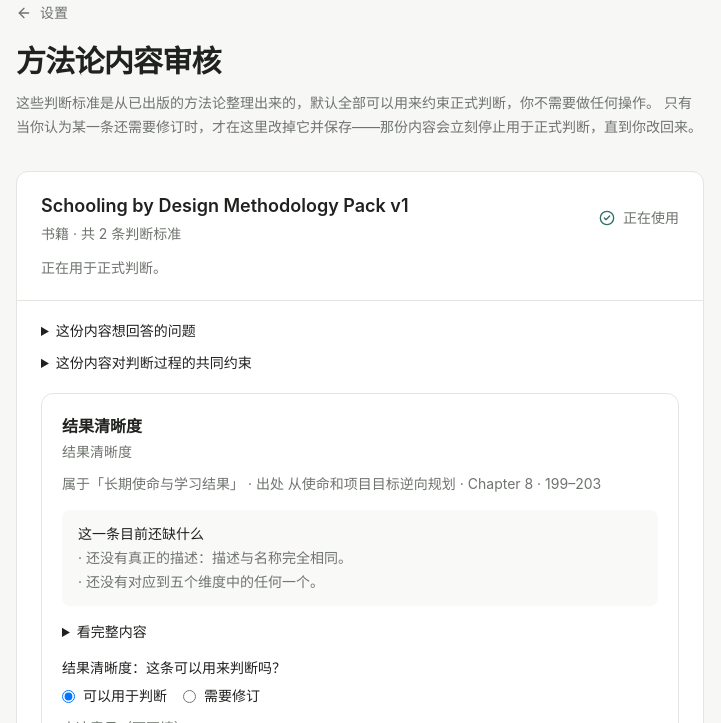
it: MethodologyReviewPage › submits one conclusion per criterion and shows the recorded outcome
This screenshot has width=721, height=723.
Click the radio button labelled "需要修订" at (190, 696), box [183,690,196,702]
(page scrolled)
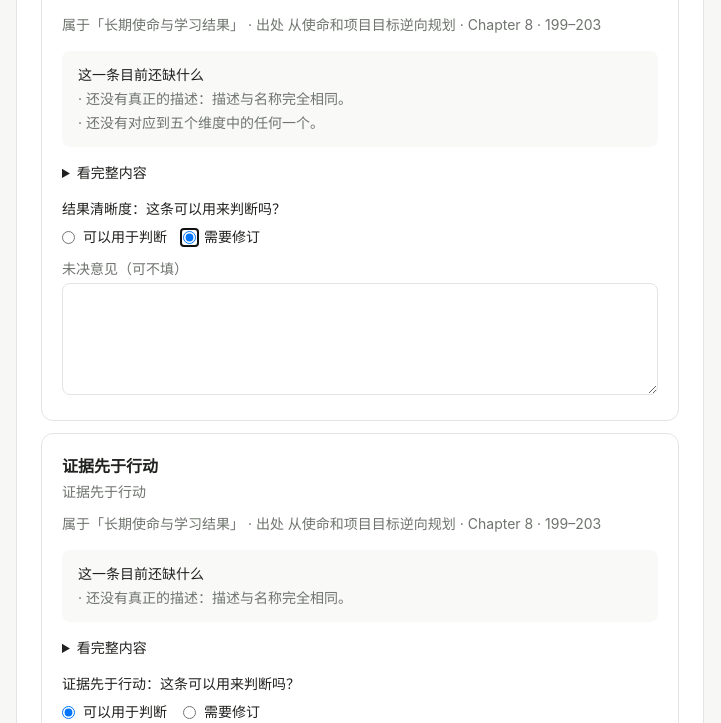
Type "描述与名称完全相同。" into the text box named "结果清晰度的未决意见" at (360, 339), box [62,283,658,395]
(page scrolled)
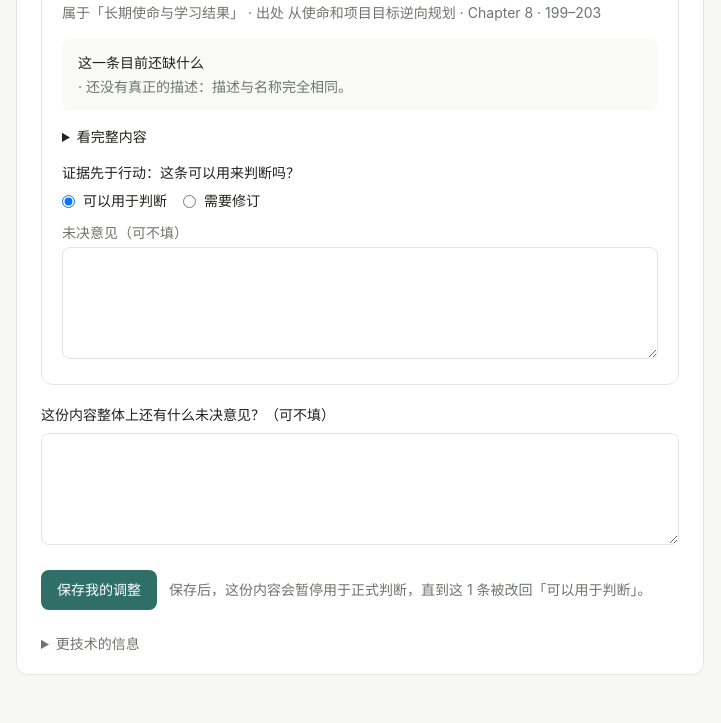
Expected: the text "保存后，这份内容会暂停用于正式判断，直到这 1 条被改回「可以用于判断」。" is shown, [169,580,652,600]
Note: The second criterion is deliberately left untouched: it stays usable.
Type "需要补翻译后再看。" into the text box named "Schooling by Design Methodology Pack v1的未决意见" at (360, 489), box [41,433,679,545]
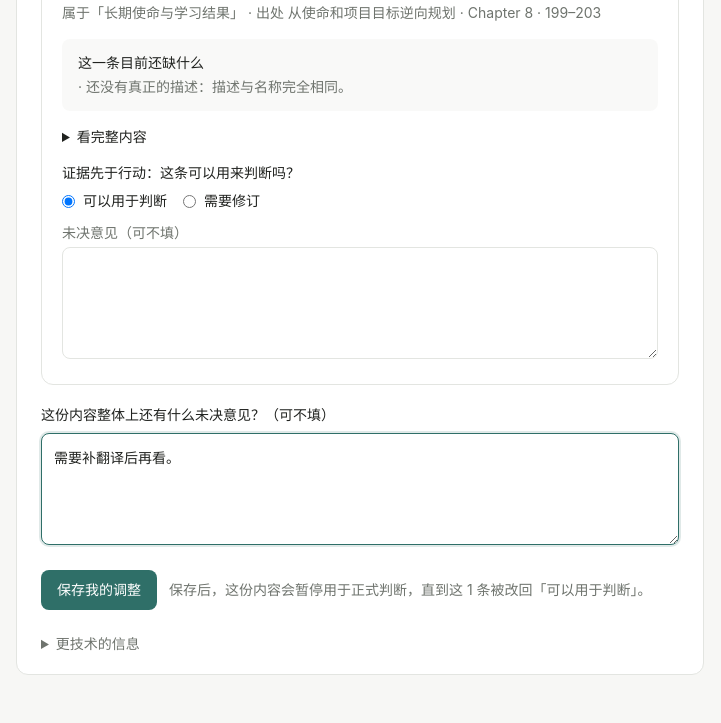
Click the button "保存我的调整" at (99, 590), box [41,570,157,610]
(page scrolled)
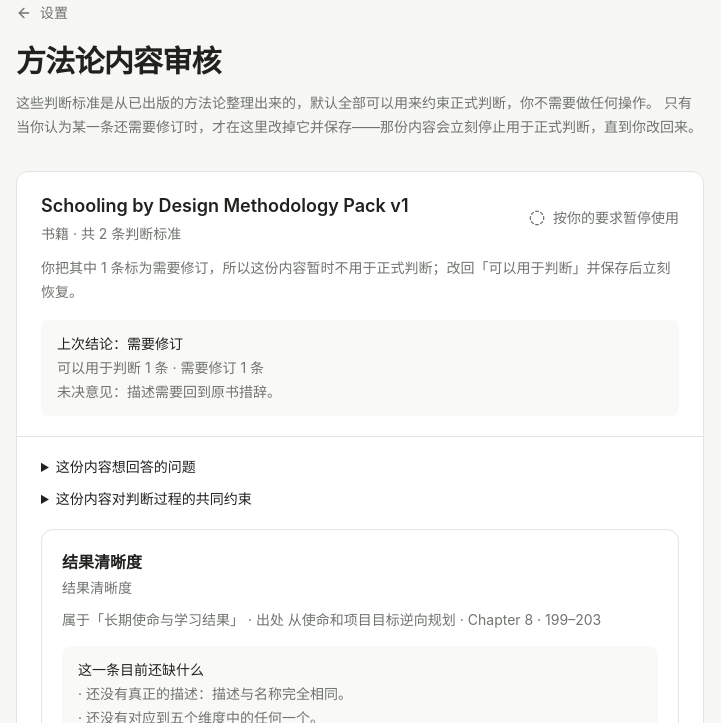
Expected: the text "上次结论：需要修订" is shown, [57,335,183,352]
Expected: the text "可以用于判断 1 条 · 需要修订 1 条" is shown, [57,359,264,376]
Expected: the text "按你的要求暂停使用" is shown, [529,208,679,228]
